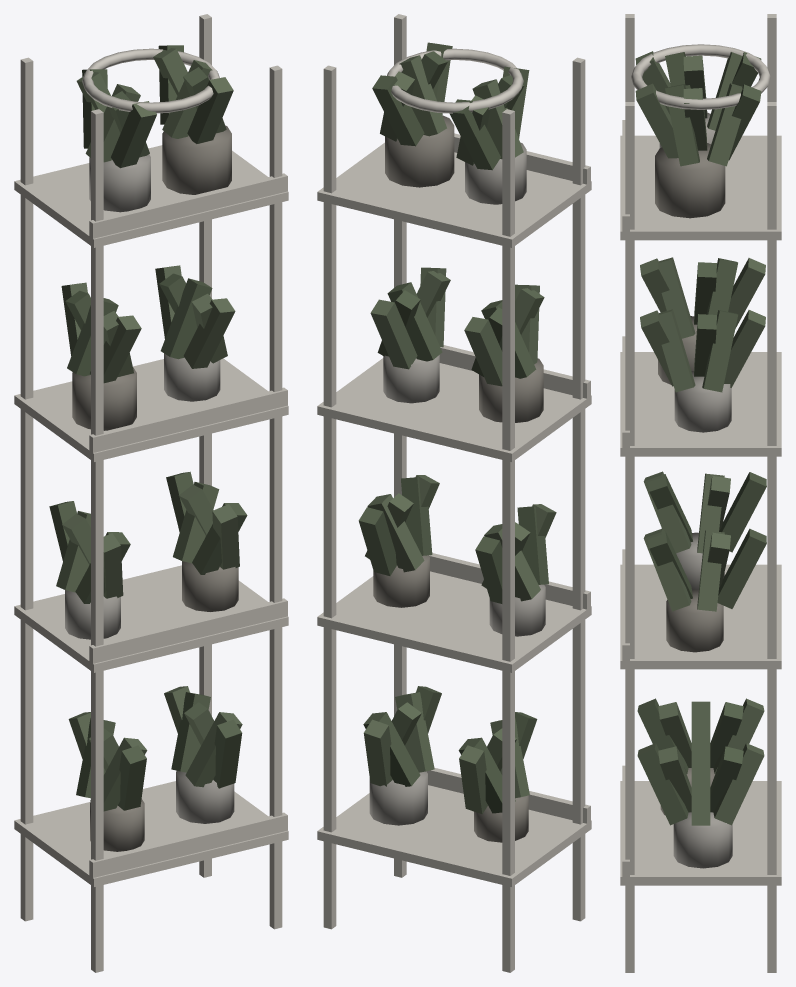
Rendered from etagere2.glb.
3 views of the same model, side by side, from view 1: azimuth 30°, elevation 25°; view 2: azimuth 150°, elevation 25°; view 3: azimuth 270°, elevation 25° (orthographic).
Visible parts, largest first — view 1: root; view 2: root; view 3: root.
Part boxes in pixels (left/top/right/bottom): root: left=14, top=14, right=288, bottom=972; root: left=317, top=14, right=591, bottom=972; root: left=620, top=14, right=781, bottom=972.
Bounding box in the file's own units: 0.3658 × 1.54 × 0.2591.
